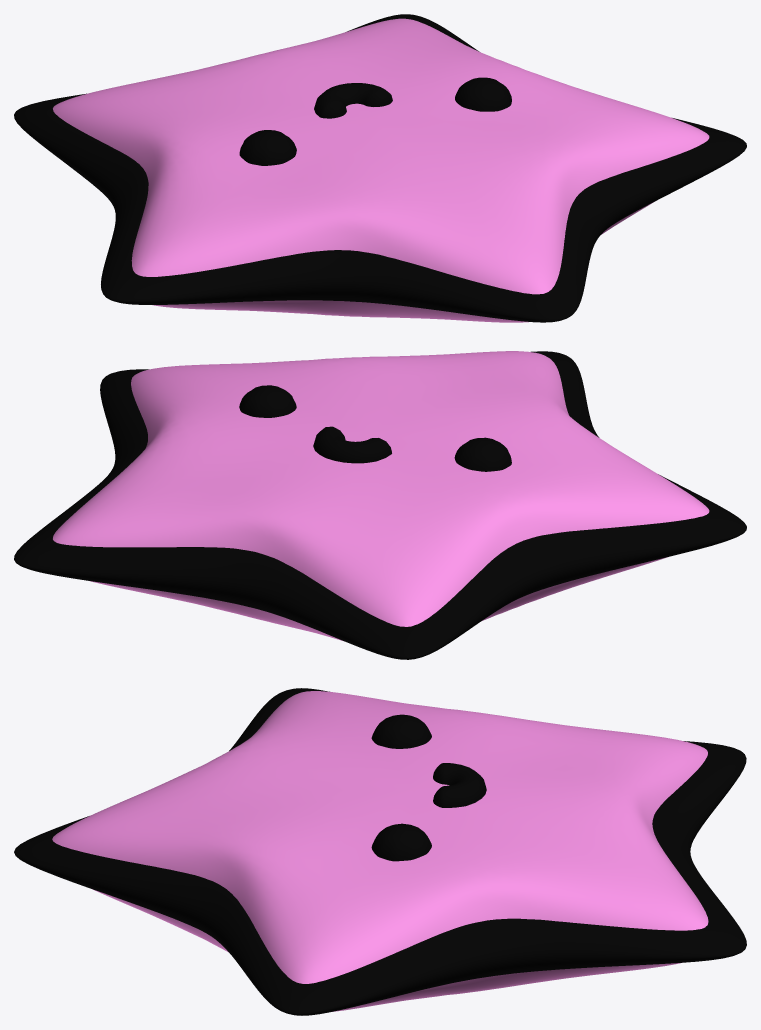
The model's file is lucy.glb.
3 renders of one model, top to bottom at view 1: azimuth 30°, elevation 25°; view 2: azimuth 150°, elevation 25°; view 3: azimuth 270°, elevation 25°, orthographic. The views are drawn at different scales.
Visible parts, largest first — view 1: Cylinder.003, Cylinder.005, Cylinder.004, BézierCurve.001; view 2: Cylinder.003, Cylinder.005, Cylinder.004, BézierCurve.001; view 3: Cylinder.003, Cylinder.005, Cylinder.004, BézierCurve.001.
Part boxes in pixels (x1,y1,x2,y2): Cylinder.003: [53, 18, 709, 322]; Cylinder.005: [14, 14, 746, 322]; Cylinder.004: [239, 77, 511, 165]; BézierCurve.001: [314, 83, 392, 118]; Cylinder.003: [53, 351, 709, 641]; Cylinder.005: [14, 351, 746, 659]; Cylinder.004: [239, 385, 511, 471]; BézierCurve.001: [313, 426, 391, 463]; Cylinder.003: [52, 691, 708, 1011]; Cylinder.005: [14, 688, 746, 1015]; Cylinder.004: [371, 714, 431, 861]; BézierCurve.001: [433, 763, 486, 807].
Size of the model in its own units: 1.83 by 0.3764 by 1.75.
